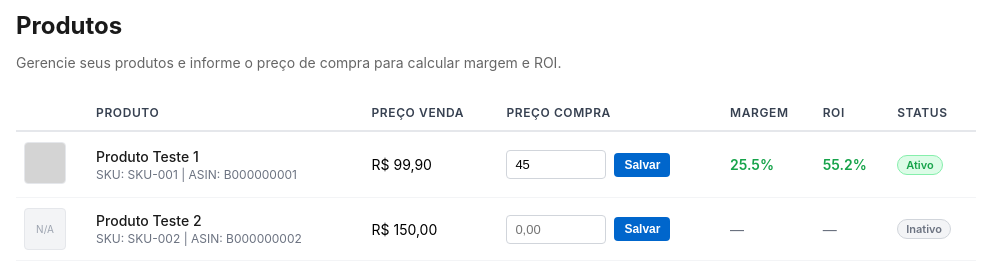
Scenario: ProductsPage › saves cost price and updates margin/ROI
Expected: the text "Produto Teste 2" is shown, [96, 212, 202, 229]
Step 1. Type "80" into the field with placeholder "0,00" → (556, 229), box [506, 215, 606, 244]
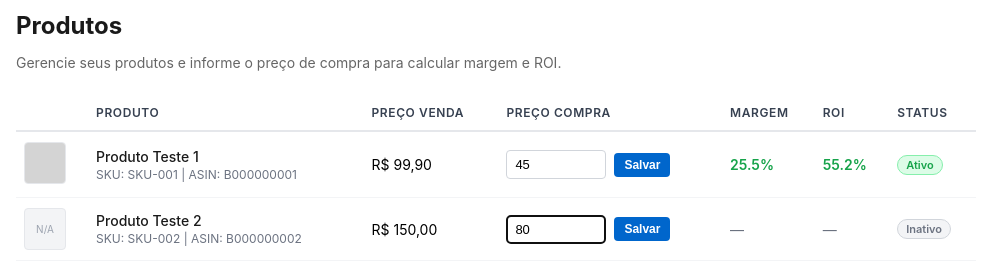
Step 2. Click the button "Salvar" in the row of "N/A" → (642, 229), box [614, 217, 670, 241]
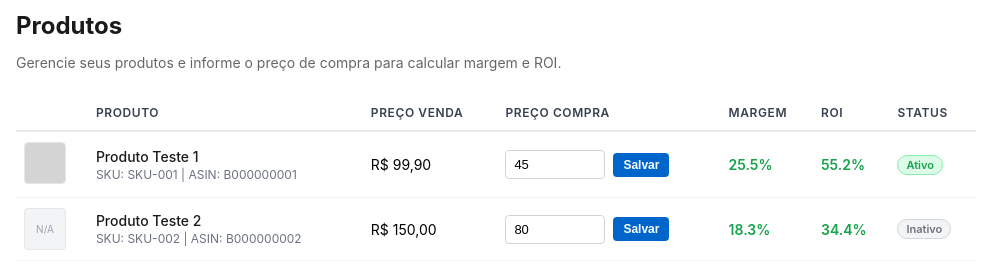
Expected: the text "18.3%" is shown, [729, 221, 770, 238]
Expected: the text "34.4%" is shown, [821, 221, 867, 238]
